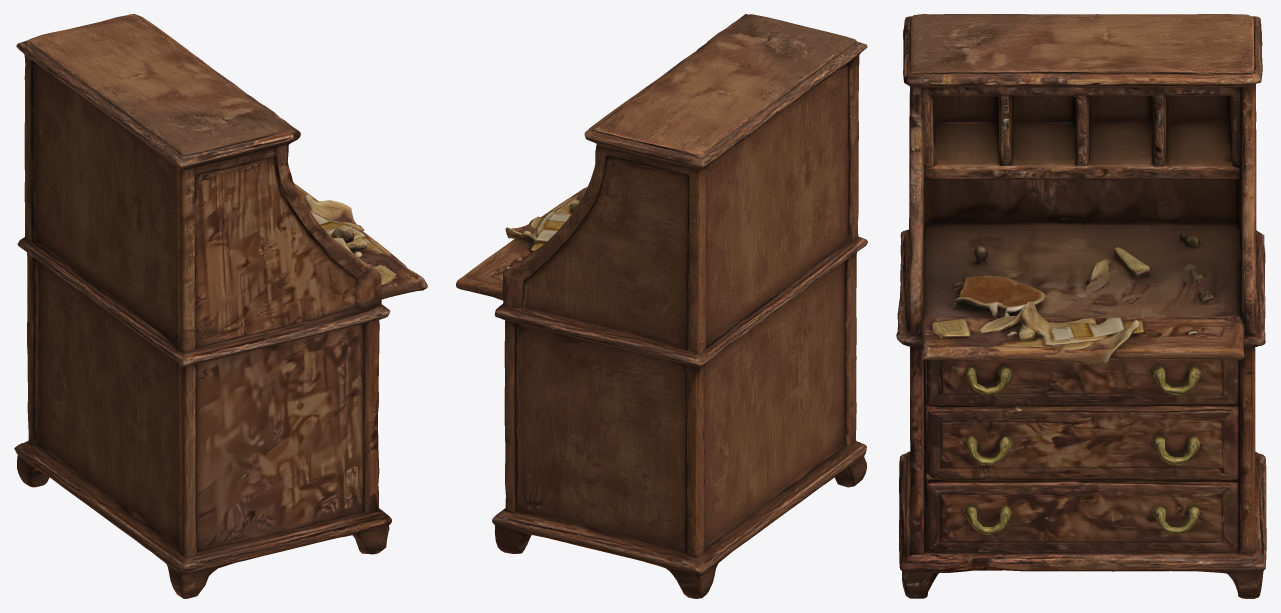
Rendered from scene-writing-bureau-v03.glb.
3 views of the same model, side by side, from view 1: azimuth 30°, elevation 25°; view 2: azimuth 150°, elevation 25°; view 3: azimuth 270°, elevation 25° (orthographic). The views are drawn at different scales.
Visible parts, largest first — view 1: tripo_node_36d9a80b-2b2f-4d2a-b347-0b3b947140c2; view 2: tripo_node_36d9a80b-2b2f-4d2a-b347-0b3b947140c2; view 3: tripo_node_36d9a80b-2b2f-4d2a-b347-0b3b947140c2.
Boxes of the visible parts, x1,y1,x2,y2 form: tripo_node_36d9a80b-2b2f-4d2a-b347-0b3b947140c2: [14, 14, 427, 598]; tripo_node_36d9a80b-2b2f-4d2a-b347-0b3b947140c2: [456, 14, 867, 598]; tripo_node_36d9a80b-2b2f-4d2a-b347-0b3b947140c2: [896, 14, 1266, 598].
Bounding box in the file's own units: 0.7213 × 1.15 × 0.7993.
1 material, 1 textured.
